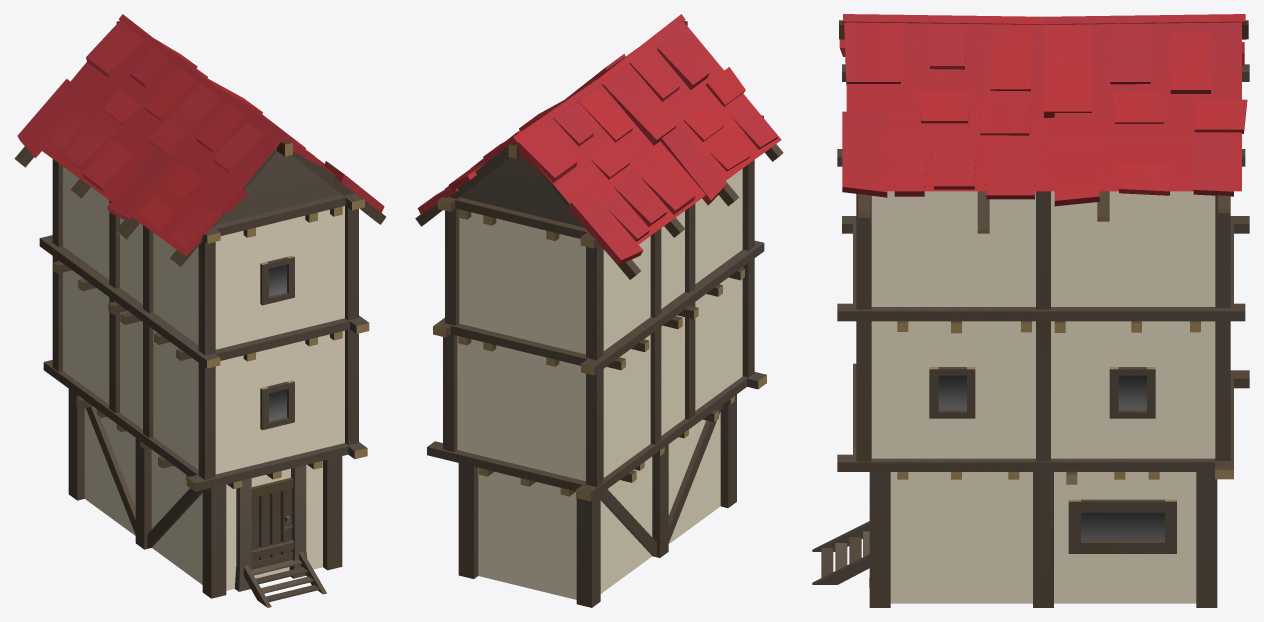
File: House_14.fbx
3 renders of one model, left to right at view 1: azimuth 30°, elevation 25°; view 2: azimuth 150°, elevation 25°; view 3: azimuth 270°, elevation 25°, orthographic. The views are drawn at different scales.
Visible parts, largest first — view 1: polySurface9623; view 2: polySurface9623; view 3: polySurface9623.
Boxes of the visible parts, x1,y1,x2,y2 form: polySurface9623: [14, 14, 385, 607]; polySurface9623: [415, 14, 783, 607]; polySurface9623: [812, 14, 1249, 607].
Bounding box in the file's own units: 590 × 1126 × 804.
